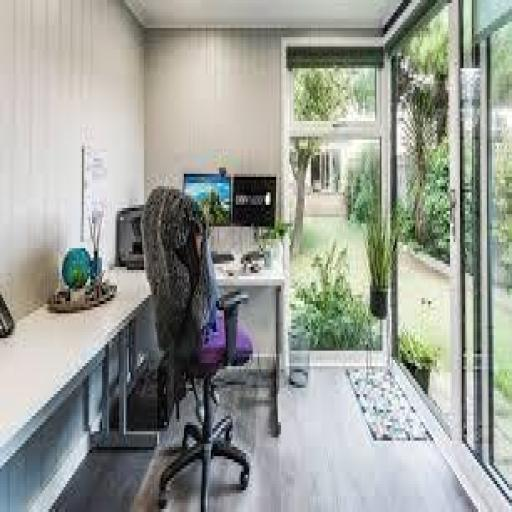chair: (140, 186, 252, 500)
